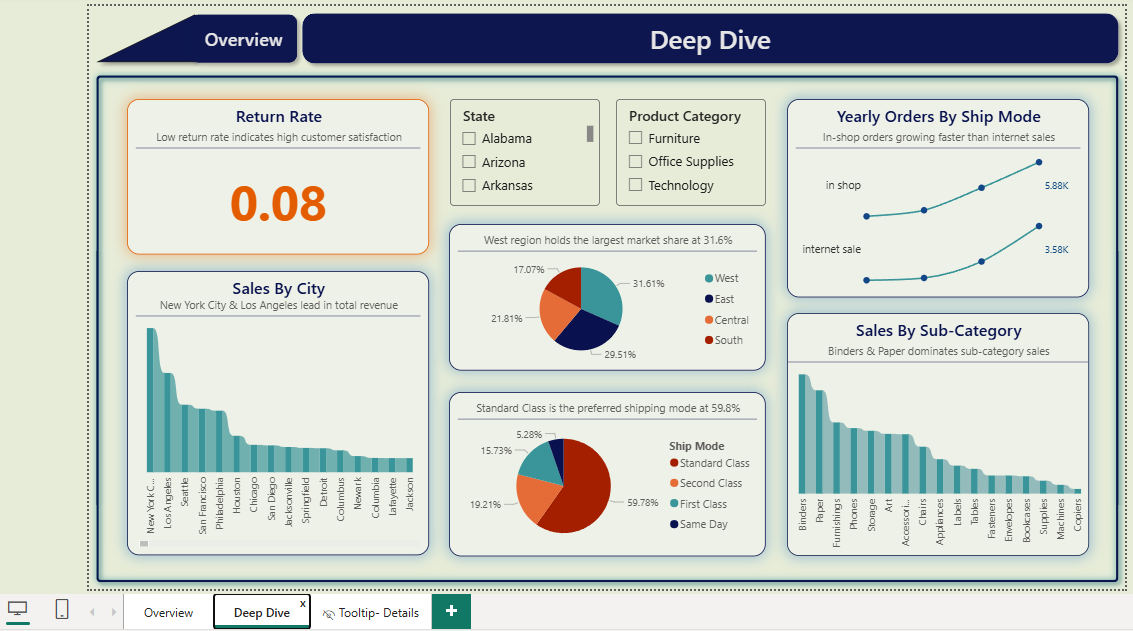

This screenshot's page, from the dashboard's own definition file:
{"tool":"powerbi","page":{"name":"Deep Dive","canvas":[1280,720],"ordinal":1},"visuals":[{"type":"shape","box":[0,1.4,140,77.1],"z":0},{"type":"shape","box":[0,76,1280,644],"z":1000},{"type":"slicer","fields":{"Values":["All sales.ایالت"]},"box":[445.3,114.7,185.3,132],"z":2000},{"type":"ribbonChart","title":"Sales By City","fields":{"Category":["All sales.شهر"],"Y":["Sum(All sales.فروش دلاری)"]},"box":[47.1,327.1,372.9,351.4],"z":3000},{"type":"ribbonChart","title":"Sales By Sub-Category","fields":{"Category":["All sales.زیر گروه کالا"],"Y":["Sum(All sales.فروش تعدادی)"]},"box":[861.4,378.6,372.9,300],"z":4000},{"type":"pieChart","fields":{"Category":["All sales.نوع ارسال"],"Y":["Count(All sales.شماره سفارش)"]},"box":[444.8,476.1,391,203],"z":5000},{"type":"card","title":"Return Rate","fields":{"Values":["All sales.Return rate"]},"box":[46.7,114.7,373.3,192],"z":6000},{"type":"pieChart","fields":{"Category":["All sales.ناحیه"],"Y":["Sum(All sales.فروش دلاری)"]},"box":[444.8,268.7,391,180.6],"z":7000},{"type":"slicer","fields":{"Values":["All sales.گروه کالا"]},"box":[650.7,114.7,185.3,132],"z":8000},{"type":"pageNavigator","box":[115.7,1.4,150,78.6],"z":9000},{"type":"PBI_CV_25997FEB_F466_44FA_B562_AC4063283C4C","title":"Yearly Orders By Ship Mode","fields":{"measure":["Sum(All sales.فروش تعدادی)"],"axis":["DATES.Myear"],"category":["All sales.نوع سفارش"]},"box":[861.2,114.9,373.1,244.8],"z":10000},{"type":"shape","box":[254.3,0,1025.7,80],"z":11000}]}

Visuals, with their boxes on the page's 1280x720 design canvas (x1, y1, x2, y2). These are canvas units, not pixel positions in the 1133x631 screenshot, which may show the page scaled, cropped or inside an application window:
shape: (x1=0, y1=1, x2=140, y2=78)
shape: (x1=0, y1=76, x2=1280, y2=720)
slicer - All sales.ایالت: (x1=445, y1=115, x2=631, y2=247)
"Sales By City" ribbonChart: (x1=47, y1=327, x2=420, y2=678)
"Sales By Sub-Category" ribbonChart: (x1=861, y1=379, x2=1234, y2=679)
pieChart - All sales.نوع ارسال x Count(All sales.شماره سفارش): (x1=445, y1=476, x2=836, y2=679)
"Return Rate" card: (x1=47, y1=115, x2=420, y2=307)
pieChart - All sales.ناحیه x Sum(All sales.فروش دلاری): (x1=445, y1=269, x2=836, y2=449)
slicer - All sales.گروه کالا: (x1=651, y1=115, x2=836, y2=247)
pageNavigator: (x1=116, y1=1, x2=266, y2=80)
"Yearly Orders By Ship Mode" PBI_CV_25997FEB_F466_44FA_B562_AC4063283C4C: (x1=861, y1=115, x2=1234, y2=360)
shape: (x1=254, y1=0, x2=1280, y2=80)
